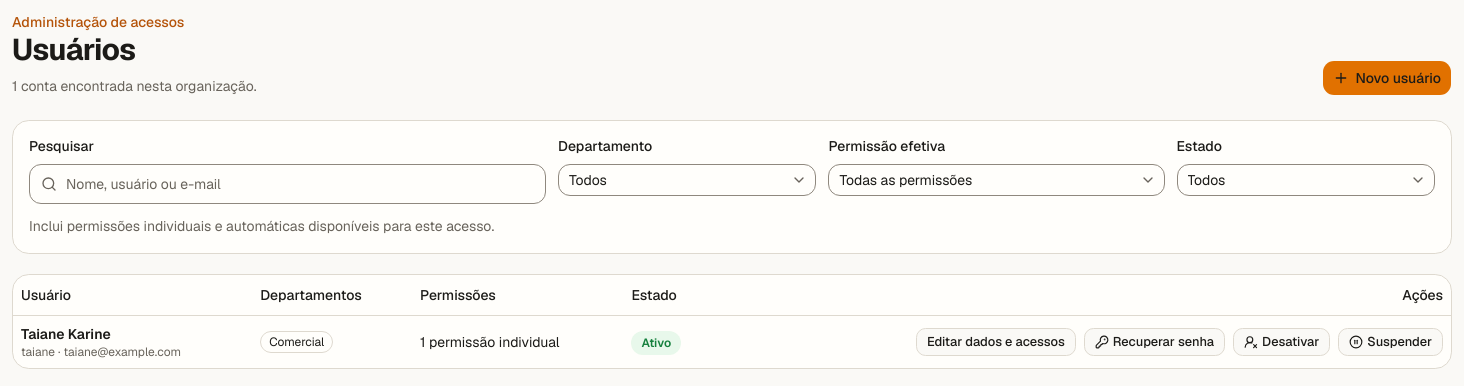
users management permissions › publishes implicit permissions in the effective-permission filter
Step 1. Click the dropdown named "Permissão efetiva" → (906, 180), box [828,164,1164,196]
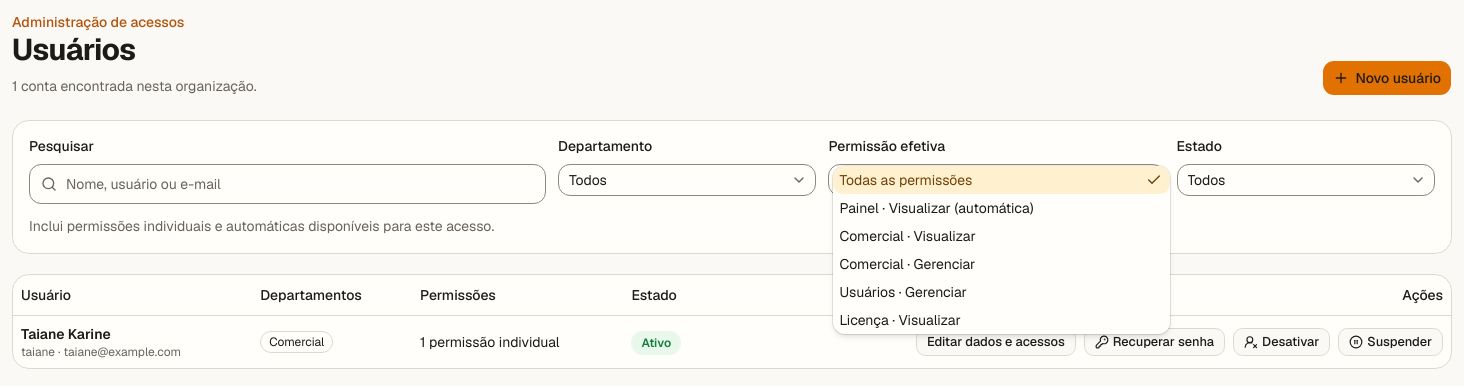
Expected: the text "Painel · Visualizar (automática)" is shown, [840,199,1034,217]
Expected: the text "Comercial · Visualizar" is shown, [840,227,976,245]
